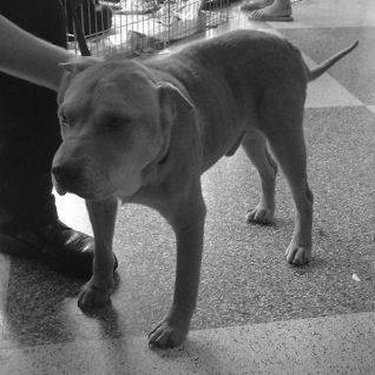dog: (39, 33, 364, 352)
